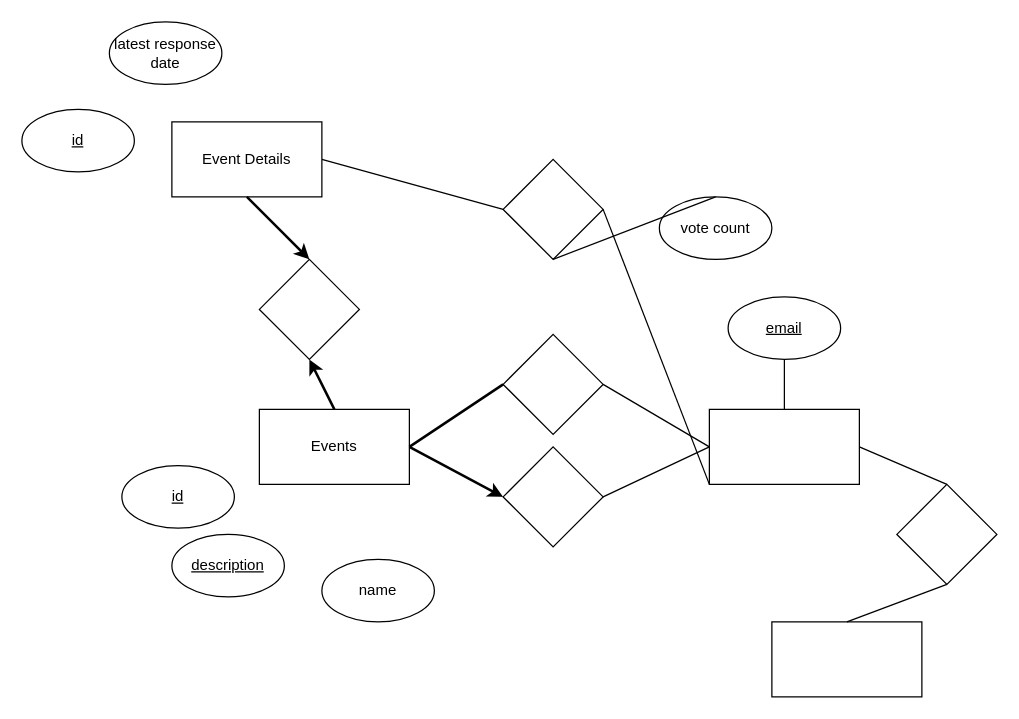
Image size: 1019x719. Some labels were removed from this diagram. Here are the shapes that lost their labels. From the top down, the centre of each, then its label:
the point at 552,208: vote
the point at 552,383: Part
the point at 783,446: User
the point at 552,496: Make
the point at 846,659: List
